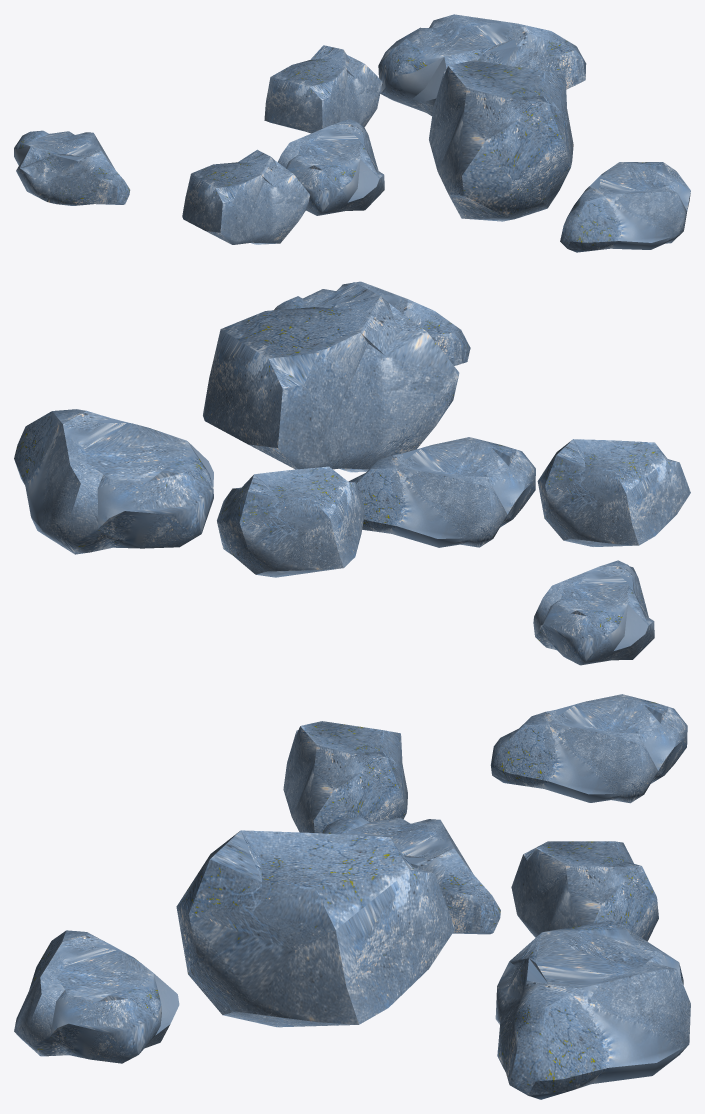
File: cluster1.glb
3 views of the same model, one above another, from view 1: azimuth 30°, elevation 25°; view 2: azimuth 150°, elevation 25°; view 3: azimuth 270°, elevation 25° (orthographic). The views are drawn at different scales.
Visible parts, largest first — view 1: Aset_nature_rock_S_wd3efb0_00_LOD4_3, Aset_nature_rock_S_wdcbcds_00_LOD3_5, Aset_nature_rock_S_wdcbcds_00_LOD3_2, Aset_nature_rock_S_wd3efb0_00_LOD4_2, Aset_nature_rock_S_wd3efb0_00_LOD4_4, Aset_nature_rock_S_wdcbcds_00_LOD3_3, Aset_nature_rock_S_wdcbcds_00_LOD3_4; view 2: Aset_nature_rock_S_wd3efb0_00_LOD4_3, Aset_nature_rock_S_wdcbcds_00_LOD3_5, Aset_nature_rock_S_wdcbcds_00_LOD3_3, Aset_nature_rock_S_wd3efb0_00_LOD4_4, Aset_nature_rock_S_wd3efb0_00_LOD4_2, Aset_nature_rock_S_wdcbcds_00_LOD3_4, Aset_nature_rock_S_wdcbcds_00_LOD3_2; view 3: Aset_nature_rock_S_wd3efb0_00_LOD4_3, Aset_nature_rock_S_wdcbcds_00_LOD3_5, Aset_nature_rock_S_wdcbcds_00_LOD3_4, Aset_nature_rock_S_wdcbcds_00_LOD3_2, Aset_nature_rock_S_wd3efb0_00_LOD4_2, Aset_nature_rock_S_wd3efb0_00_LOD4_4, Aset_nature_rock_S_wdcbcds_00_LOD3_3.
Part boxes in pixels (x1,y1,x2,y2): Aset_nature_rock_S_wd3efb0_00_LOD4_3: (429, 60, 573, 221); Aset_nature_rock_S_wdcbcds_00_LOD3_5: (378, 14, 586, 115); Aset_nature_rock_S_wdcbcds_00_LOD3_2: (560, 162, 690, 252); Aset_nature_rock_S_wd3efb0_00_LOD4_2: (182, 149, 309, 244); Aset_nature_rock_S_wd3efb0_00_LOD4_4: (264, 45, 382, 133); Aset_nature_rock_S_wdcbcds_00_LOD3_3: (278, 119, 384, 215); Aset_nature_rock_S_wdcbcds_00_LOD3_4: (14, 130, 130, 205); Aset_nature_rock_S_wd3efb0_00_LOD4_3: (203, 282, 459, 472); Aset_nature_rock_S_wdcbcds_00_LOD3_5: (14, 409, 213, 554); Aset_nature_rock_S_wdcbcds_00_LOD3_3: (348, 437, 535, 547); Aset_nature_rock_S_wd3efb0_00_LOD4_4: (217, 466, 364, 577); Aset_nature_rock_S_wd3efb0_00_LOD4_2: (537, 439, 690, 546); Aset_nature_rock_S_wdcbcds_00_LOD3_4: (533, 560, 654, 665); Aset_nature_rock_S_wdcbcds_00_LOD3_2: (274, 281, 470, 365); Aset_nature_rock_S_wd3efb0_00_LOD4_3: (176, 830, 455, 1027); Aset_nature_rock_S_wdcbcds_00_LOD3_5: (495, 920, 690, 1099); Aset_nature_rock_S_wdcbcds_00_LOD3_4: (490, 694, 687, 803); Aset_nature_rock_S_wdcbcds_00_LOD3_2: (14, 930, 179, 1063); Aset_nature_rock_S_wd3efb0_00_LOD4_2: (283, 721, 407, 833); Aset_nature_rock_S_wd3efb0_00_LOD4_4: (511, 841, 658, 941); Aset_nature_rock_S_wdcbcds_00_LOD3_3: (322, 817, 500, 934).
Size of what is drawn, in the model's own units: 2.22 by 0.5343 by 1.73.
Materials: 2 (2 with a texture image).
